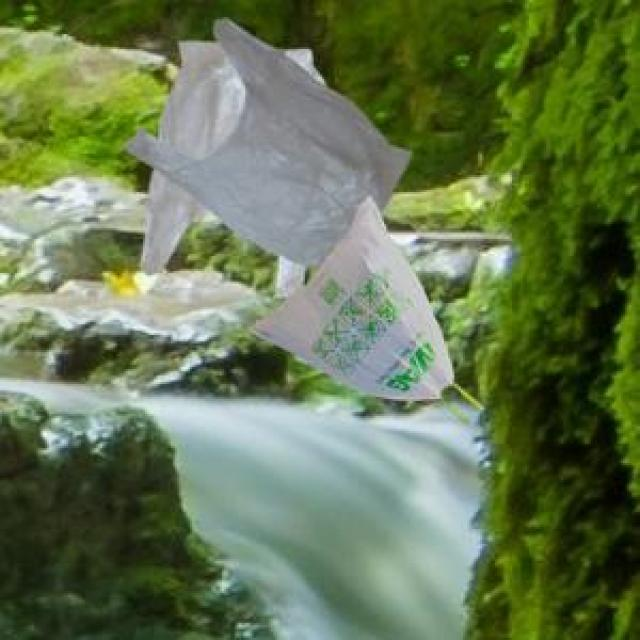plastic: (64, 15, 537, 640)
